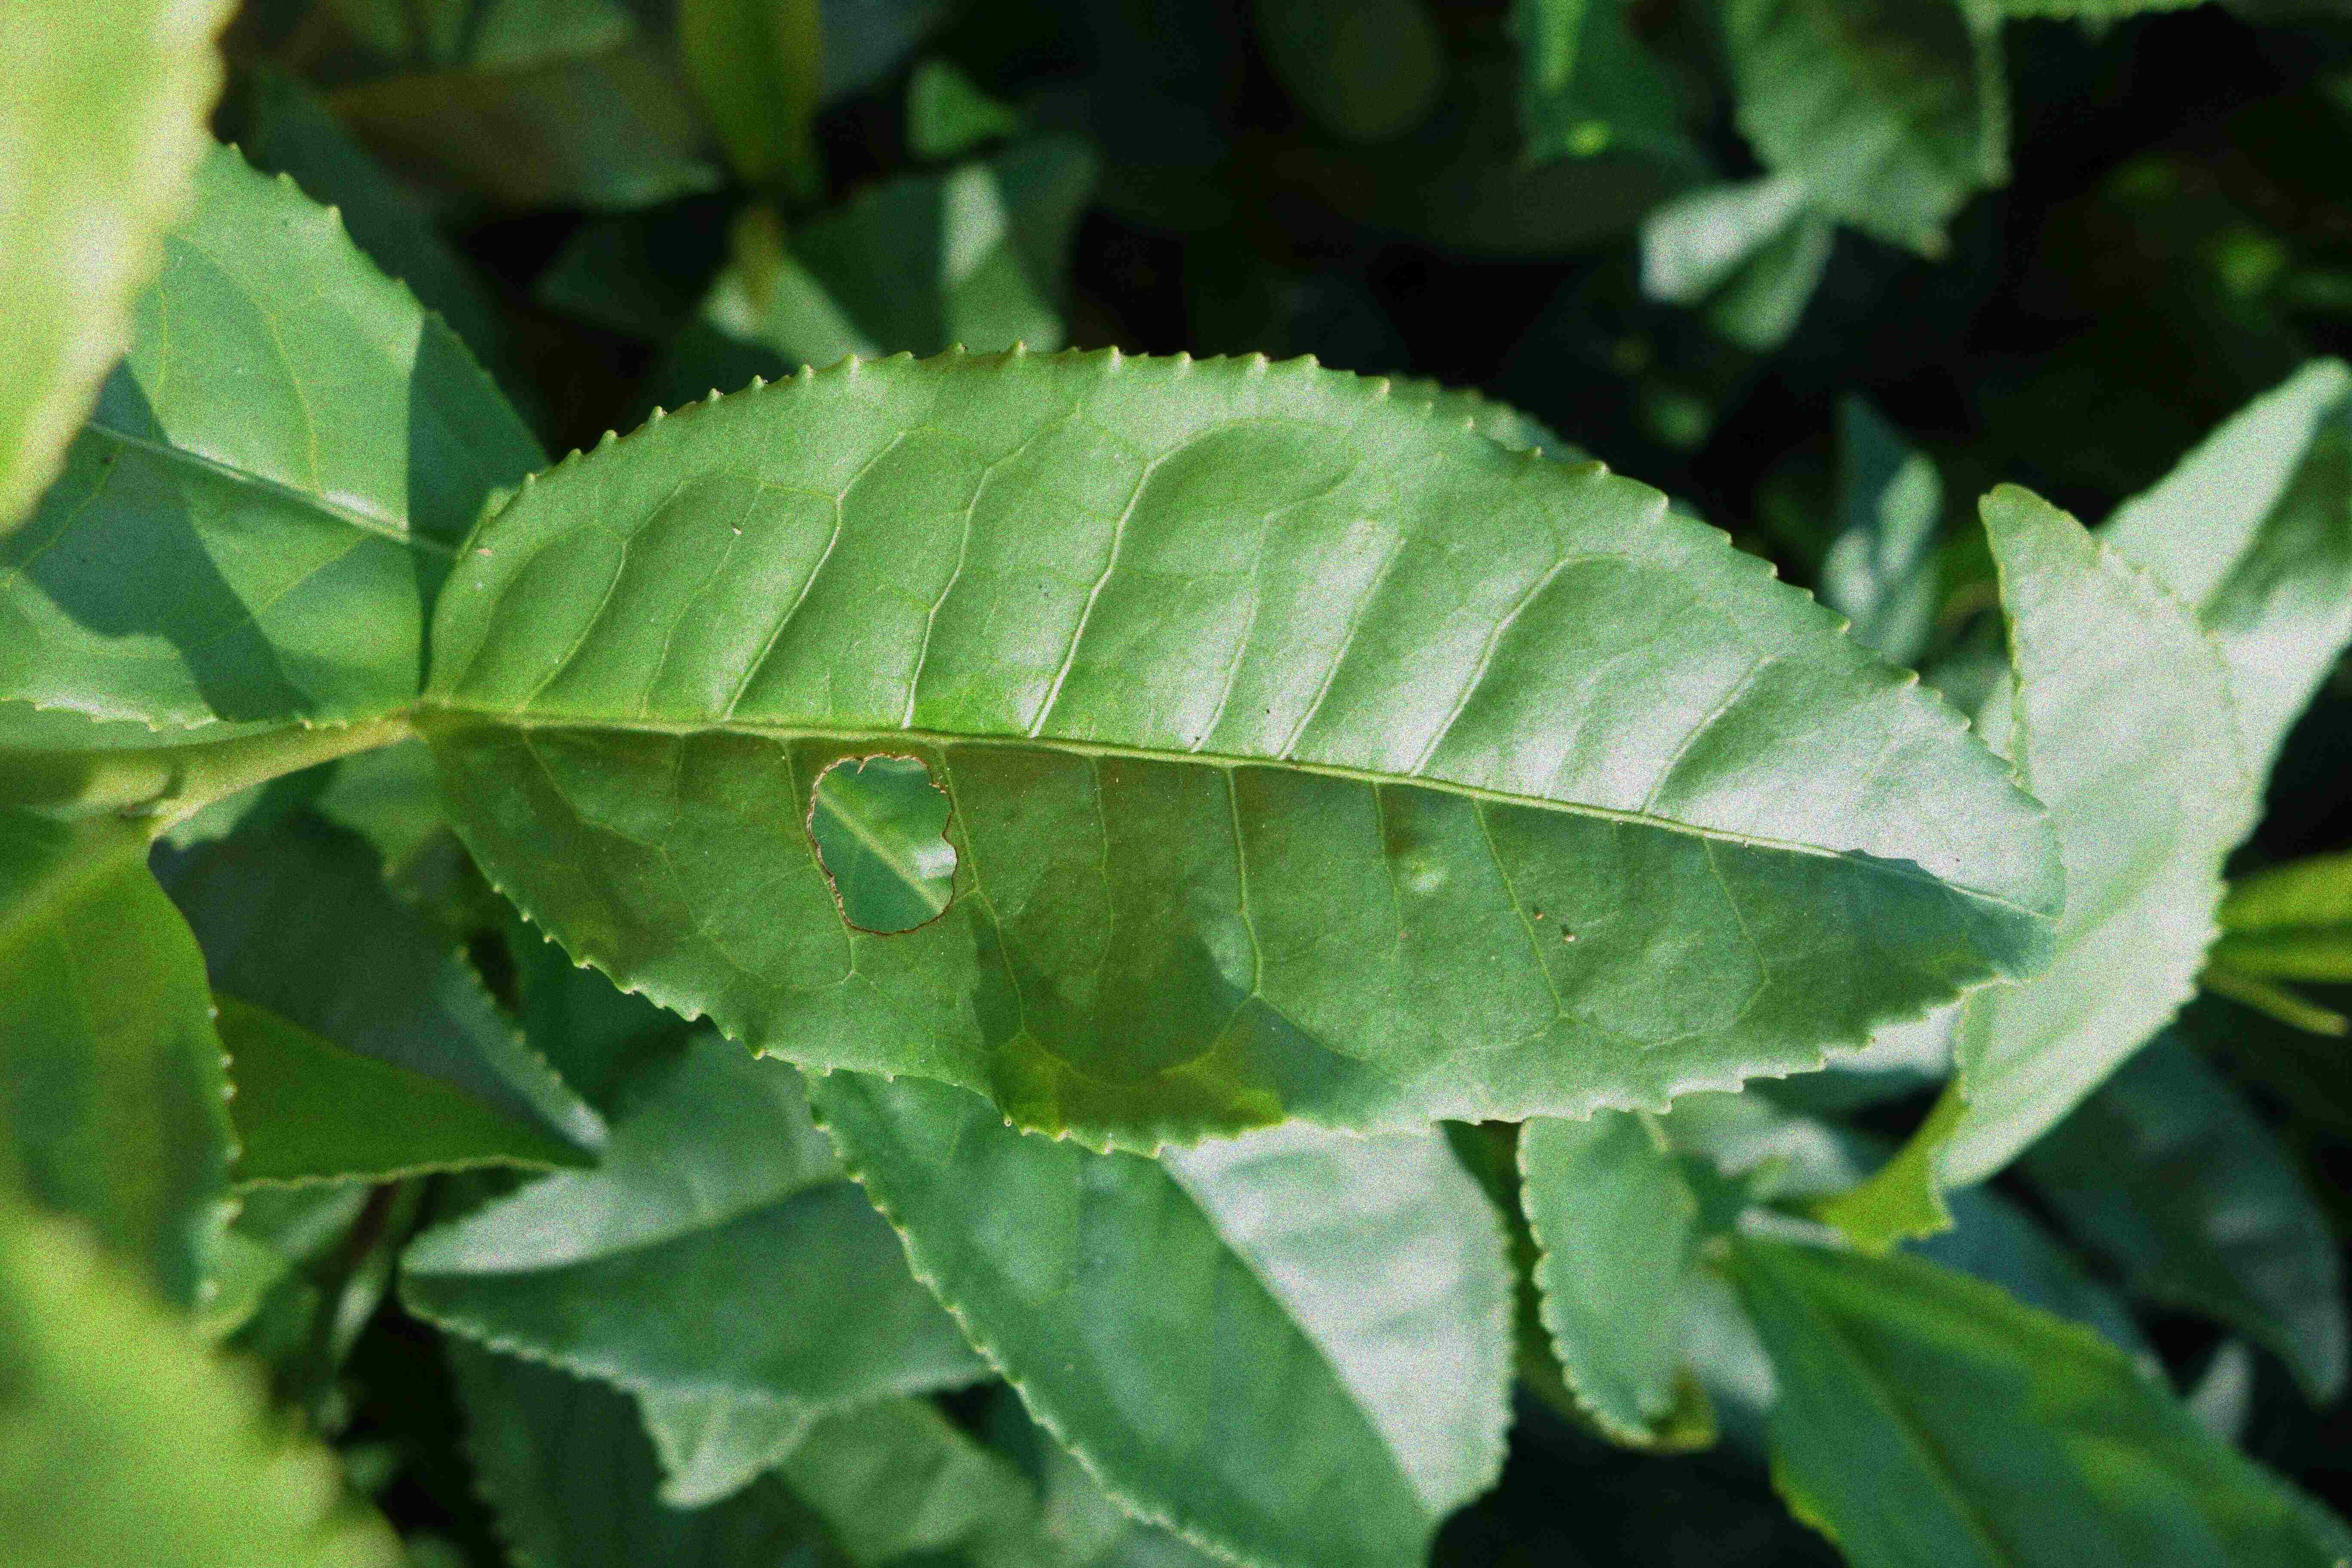chihuo_low: (411, 343, 2070, 1157)
